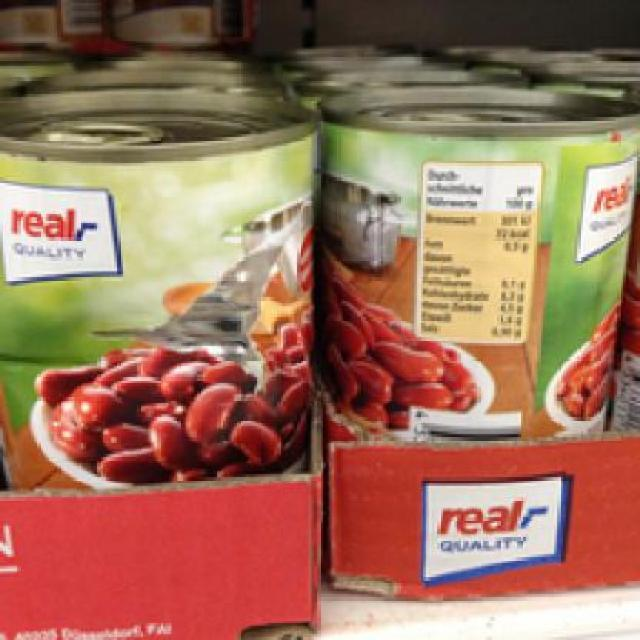Beans: (0, 82, 309, 488), (316, 86, 630, 452)
